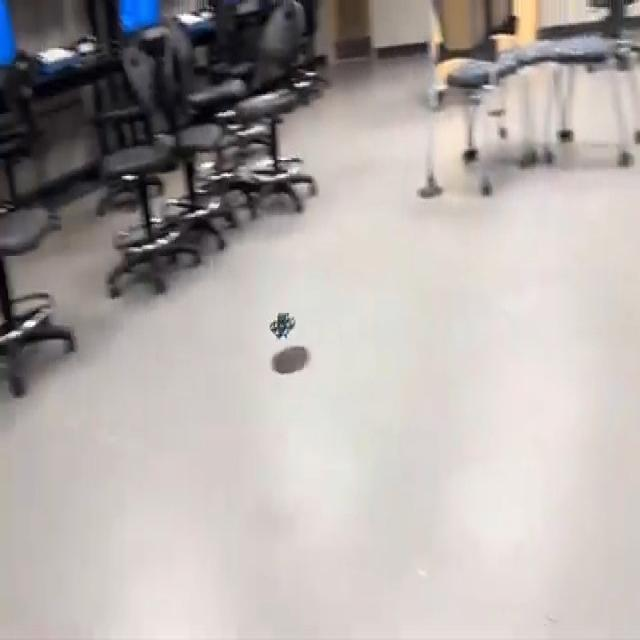drone: (261, 295, 301, 345)
